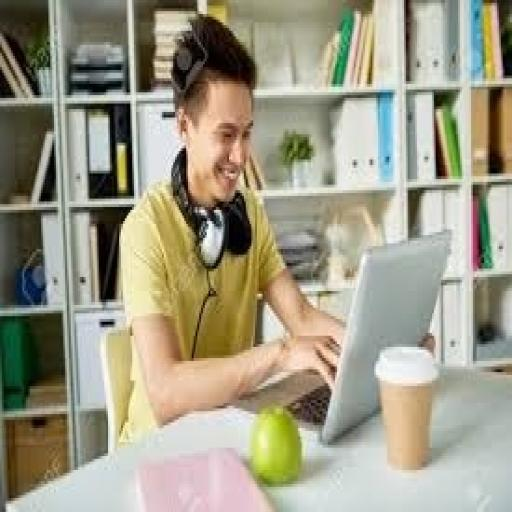using_laptop: (231, 224, 452, 445)
